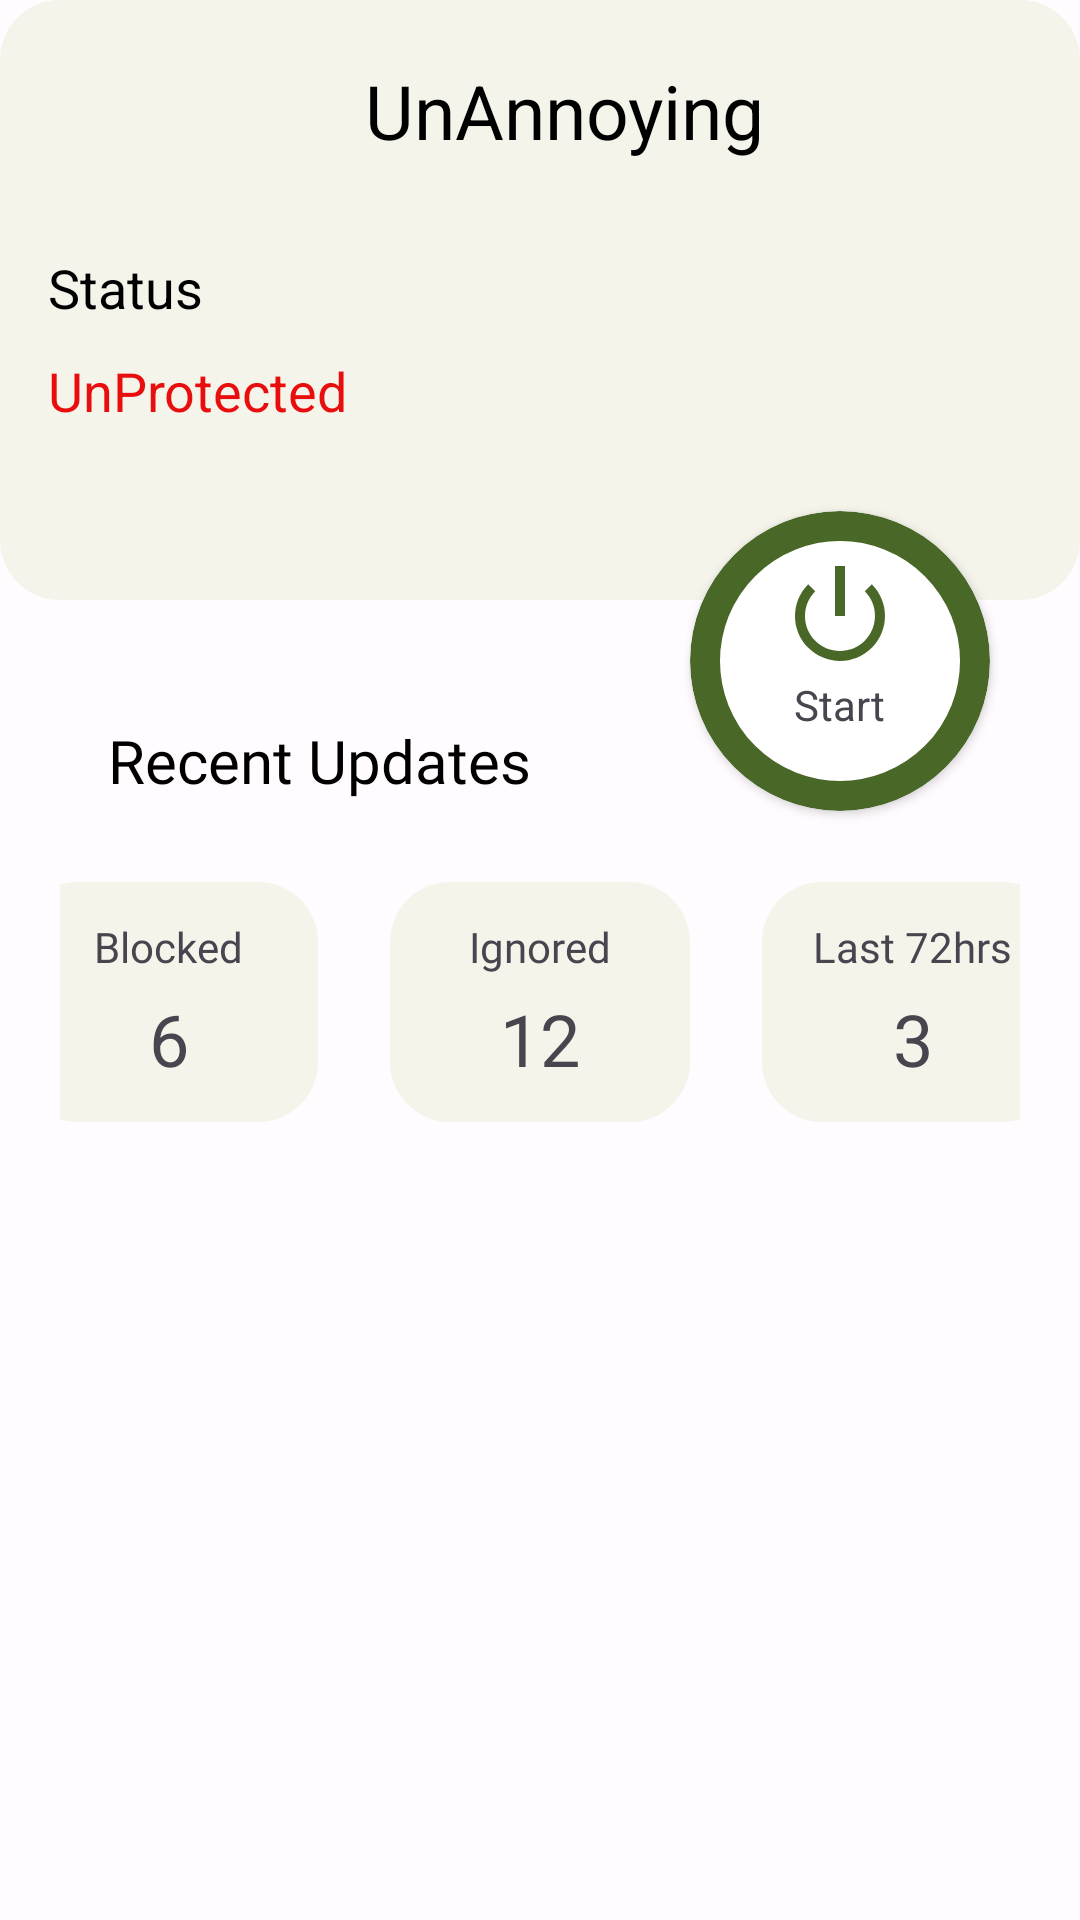

Locate icon controls on the screen. Image size 1080x1920, boxes as (x1, y1, x2, y2).
power off: (795, 566, 885, 661)
